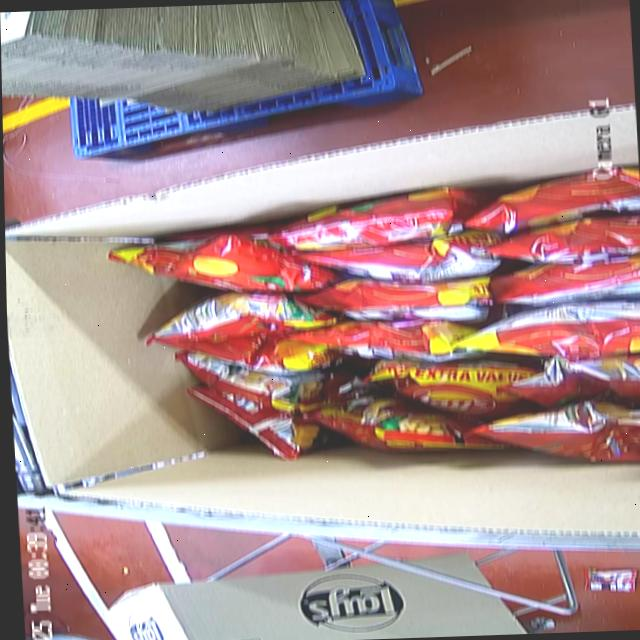MASALA: (103, 163, 640, 481)
